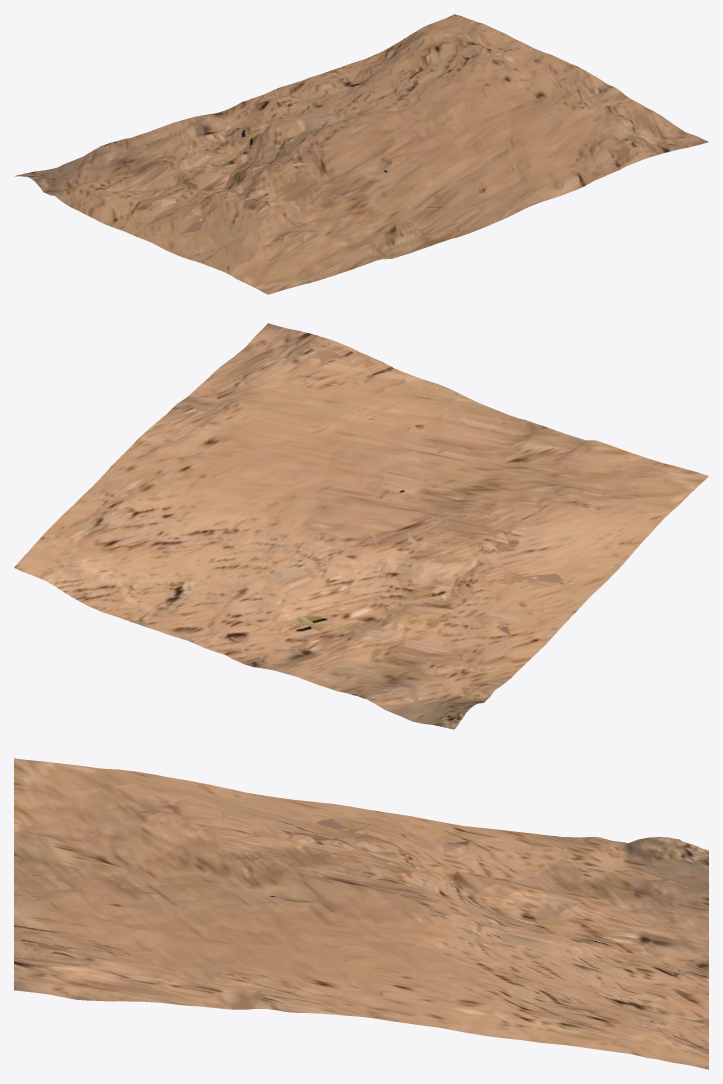
3 renders of one model, top to bottom at view 1: azimuth 30°, elevation 25°; view 2: azimuth 150°, elevation 25°; view 3: azimuth 270°, elevation 25°, orthographic. The views are drawn at different scales.
Bounding box in the file's own units: 2.09 × 0.5205 × 2.09.
Materials: 2 (2 with a texture image).
